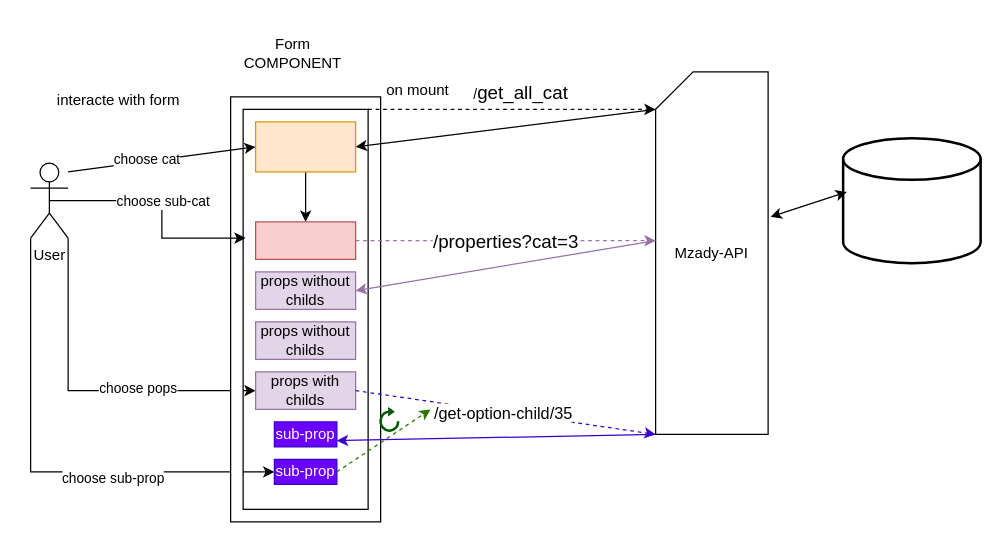
Image size: 1004x544. Some labels were removed from this diagram. The shapes that lost their labels are listed below. From the top down, each one's centre as x and y in pixels, then its label:
the point at 305,146: Main-Cat
the point at 911,200: Mazady-DB
the point at 305,240: sub-cat
